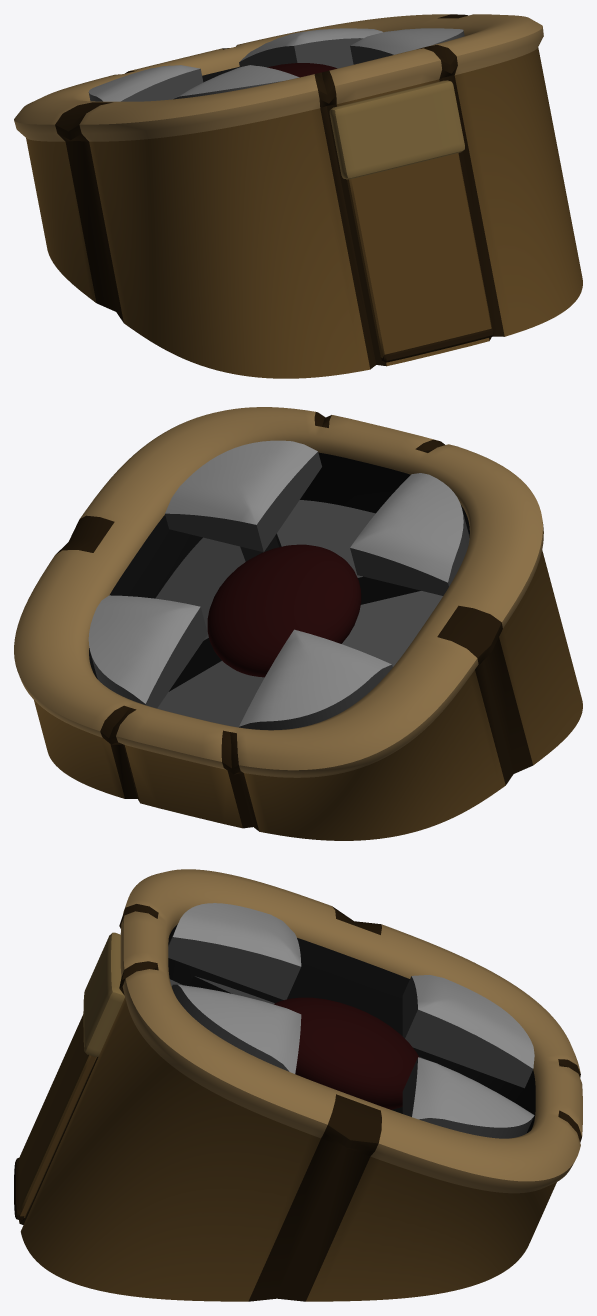
The model's file is eye_tub_197.glb.
3 renders of one model, top to bottom at view 1: azimuth 30°, elevation 25°; view 2: azimuth 150°, elevation 25°; view 3: azimuth 270°, elevation 25°, orthographic. The views are drawn at different scales.
Visible parts, largest first — view 1: tub, shutter, band, petal0, petal1, petal3, petal2, shutter_lip, eye; view 2: tub, eye, petal3, petal2, petal0, petal1, housing3, housing2, housing0, housing1; view 3: tub, eye, petal1, petal2, petal0, petal3, shutter, band.
Boxes of the visible parts, x1=… form: tub: x1=14, y1=14, x2=582, y2=378; shutter: x1=347, y1=153, x2=491, y2=358; band: x1=329, y1=80, x2=464, y2=179; petal0: x1=239, y1=28, x2=382, y2=68; petal1: x1=88, y1=65, x2=203, y2=101; petal3: x1=350, y1=28, x2=464, y2=64; petal2: x1=173, y1=65, x2=299, y2=99; shutter_lip: x1=381, y1=328, x2=493, y2=362; eye: x1=267, y1=63, x2=337, y2=77; tub: x1=14, y1=407, x2=582, y2=840; eye: x1=207, y1=544, x2=361, y2=677; petal3: x1=165, y1=440, x2=321, y2=552; petal2: x1=350, y1=473, x2=469, y2=595; petal0: x1=88, y1=595, x2=207, y2=708; petal1: x1=239, y1=629, x2=392, y2=730; housing3: x1=275, y1=500, x2=420, y2=604; housing2: x1=155, y1=537, x2=245, y2=691; housing0: x1=342, y1=591, x2=442, y2=666; housing1: x1=157, y1=661, x2=264, y2=727; tub: x1=19, y1=869, x2=582, y2=1301; eye: x1=274, y1=997, x2=419, y2=1109; petal1: x1=402, y1=975, x2=534, y2=1088; petal2: x1=168, y1=903, x2=301, y2=999; petal0: x1=402, y1=1057, x2=534, y2=1138; petal3: x1=172, y1=984, x2=301, y2=1073; shutter: x1=18, y1=1014, x2=96, y2=1217; band: x1=83, y1=932, x2=124, y2=1056.
Bounding box in the file's own units: 21.26 × 11.98 × 23.72.
